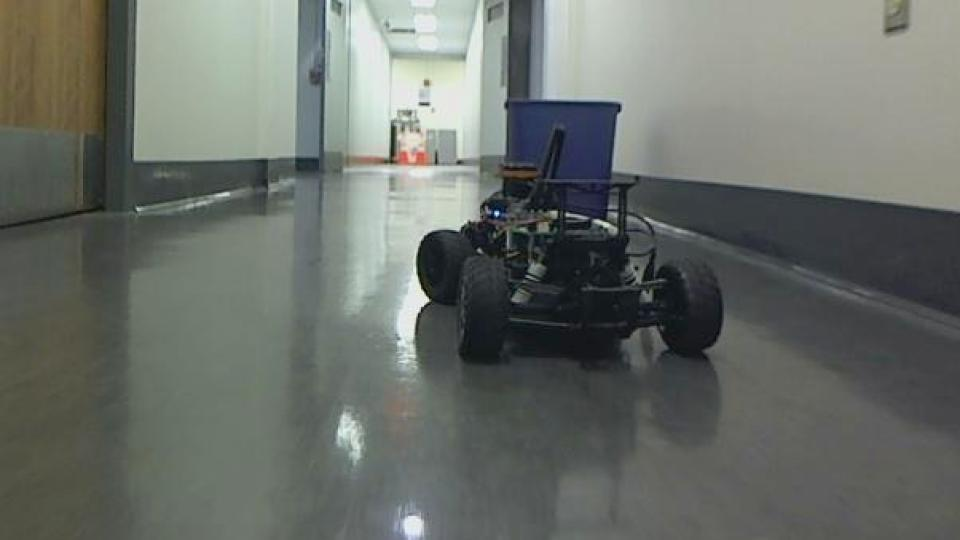car: (412, 97, 727, 366)
